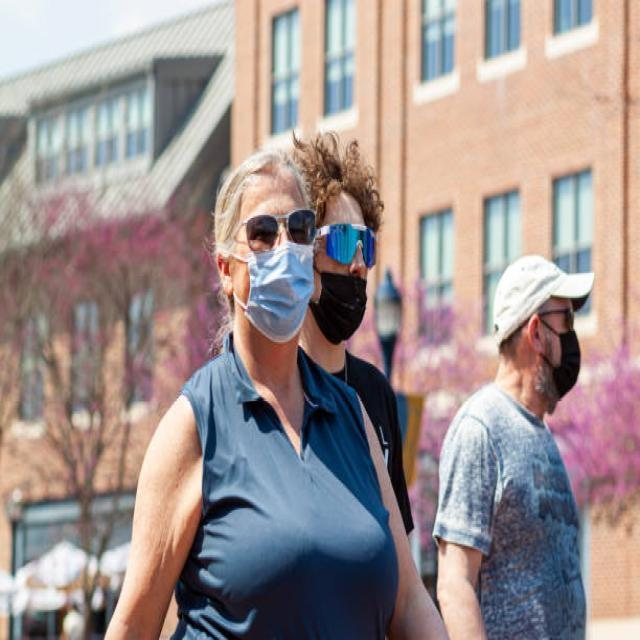hairnet: (311, 256, 371, 342)
